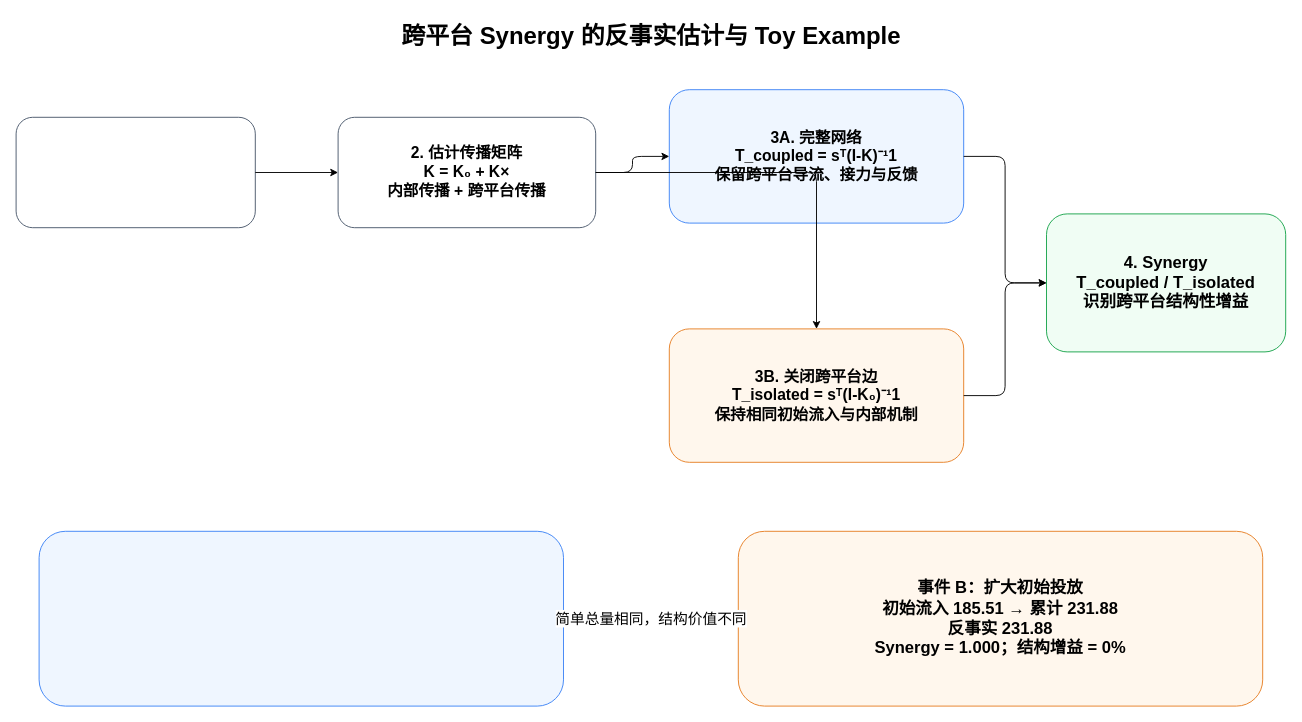
Some shapes in this 1302 by 722 pixel diagram are drawn without their labels. The shapes that lost their labels are listed below. From the top down, each one's box as (x1, y1, x2, y2) in pixels, then its label:
(15, 116, 255, 228): 1. 观测数据 小时级注意力、跳转、转载 外部冲击与初始投放
(38, 530, 564, 706): 事件 A：跨平台接力 初始流入 100 → 累计 231.88 反事实 125.00 Synergy = 1.855；结构增益 = 85.5%
